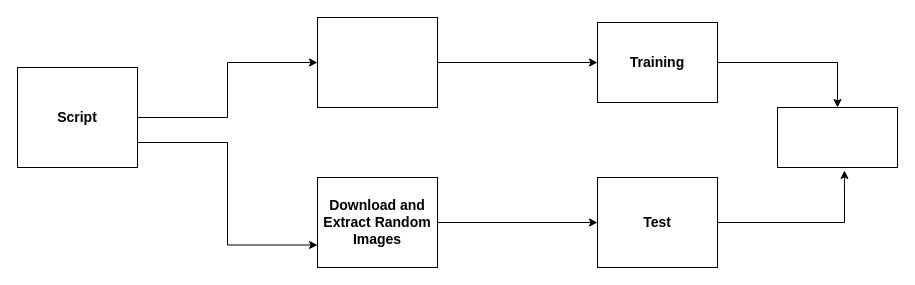
Some shapes in this 915 by 285 pixel diagram are drawn without their labels. Each missing label, with the centre of its shape:
"Download and Extract Training Images" belongs at point 377,62.
"Output" belongs at point 837,137.
